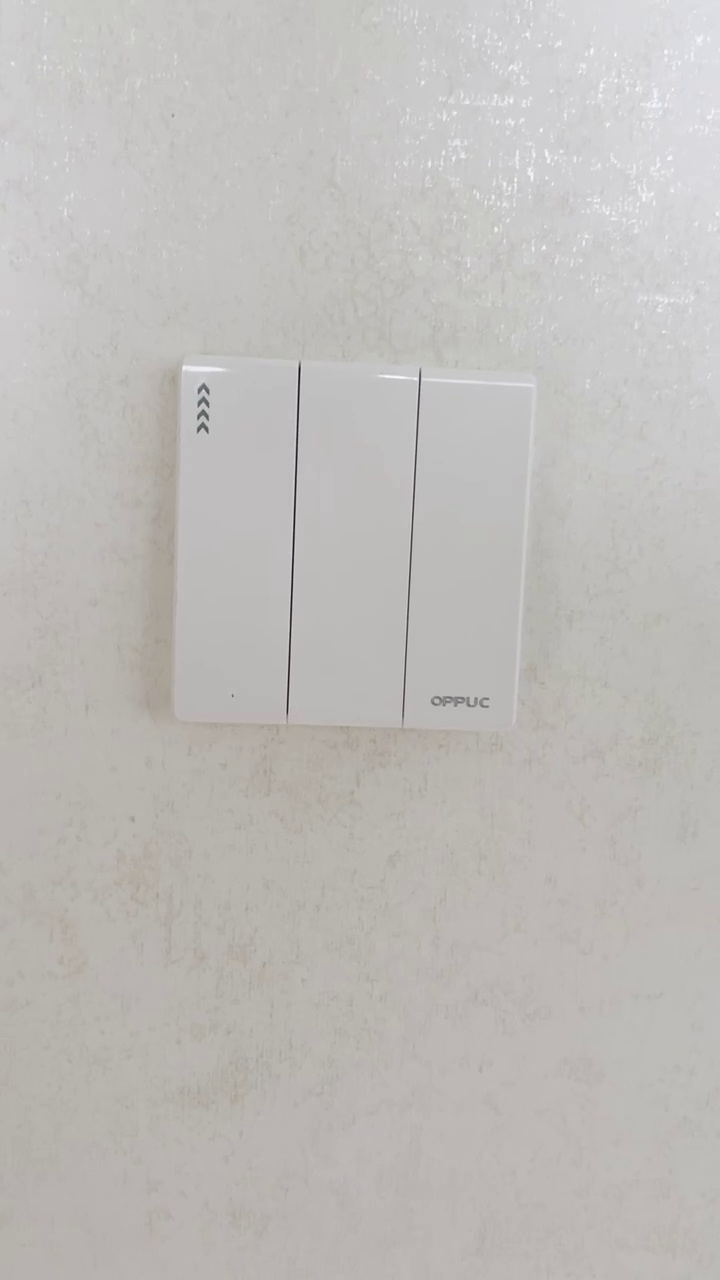button1: (177, 359, 296, 722), (409, 372, 528, 724), (293, 367, 410, 725)
